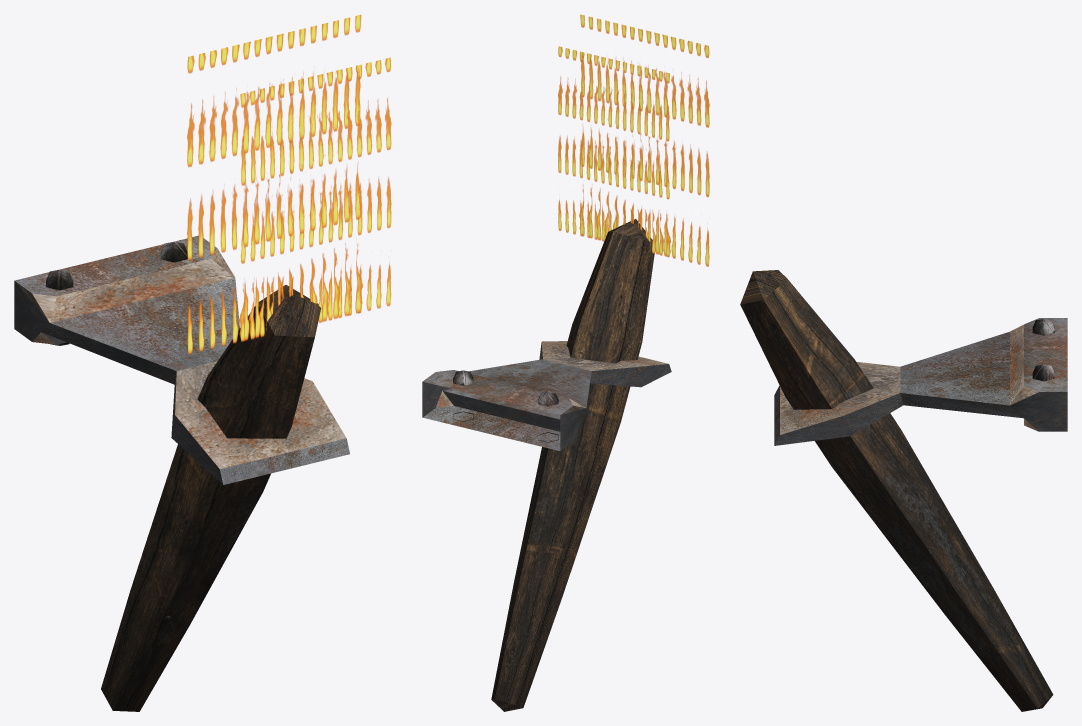
File: mm9_deco_walltorch.glb
3 views of the same model, side by side, from view 1: azimuth 30°, elevation 25°; view 2: azimuth 150°, elevation 25°; view 3: azimuth 270°, elevation 25° (orthographic). The views are drawn at different scales.
Parts seen in each view (by area): view 1: Walltorch; view 2: Walltorch; view 3: Walltorch.
Part boxes in pixels (x1,y1,x2,y2): Walltorch: (14, 14, 391, 711); Walltorch: (422, 14, 709, 711); Walltorch: (740, 270, 1067, 711).
Bounding box in the file's own units: 0.35 × 1.28 × 0.5815.
Materials: 3 (3 with a texture image).
